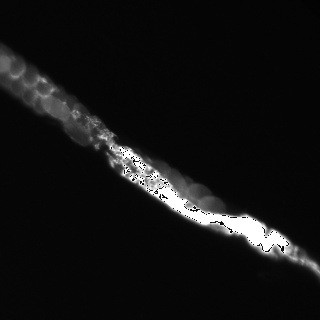embryo: (70, 102, 94, 133), (164, 169, 189, 197), (42, 95, 70, 120), (65, 122, 93, 146), (84, 117, 106, 146), (62, 96, 81, 128), (142, 160, 171, 180), (187, 183, 214, 202), (30, 91, 52, 114), (199, 196, 227, 214), (21, 65, 40, 88), (8, 56, 26, 78), (36, 75, 53, 98), (21, 82, 39, 103), (10, 75, 27, 96)
